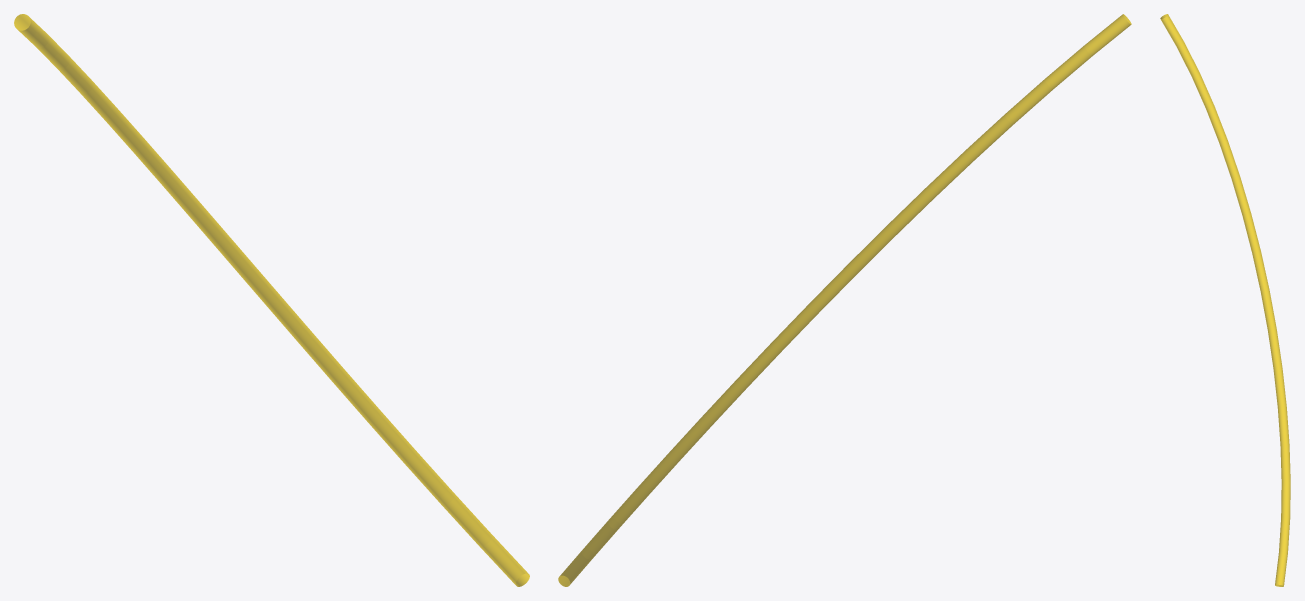
Rendered from Event_17758602_track_154.fbx.
The picture shows the model from 3 angles, left to right: view 1: azimuth 30°, elevation 25°; view 2: azimuth 150°, elevation 25°; view 3: azimuth 270°, elevation 25°; orthographic projection. The views are drawn at different scales.
Visible parts, largest first — view 1: Model; view 2: Model; view 3: Model.
Boxes of the visible parts, x1,y1,x2,y2 form: Model: (14, 14, 529, 586); Model: (558, 14, 1131, 586); Model: (1160, 14, 1290, 586).
Bounding box in the file's own units: 1.65 × 2.02 × 0.5709.
